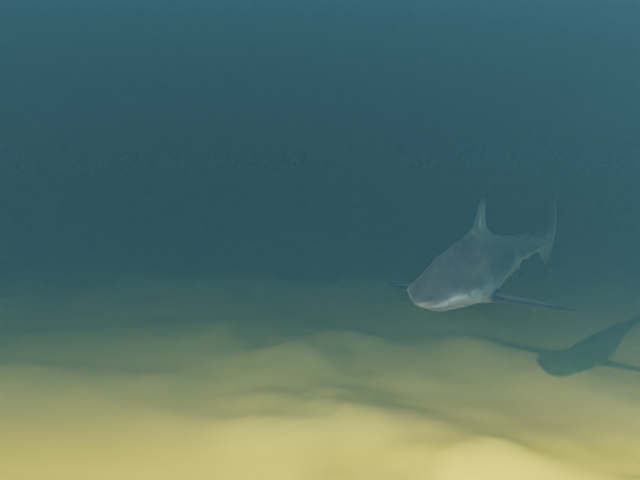Carribean Shark.001: (385, 186, 574, 311)
